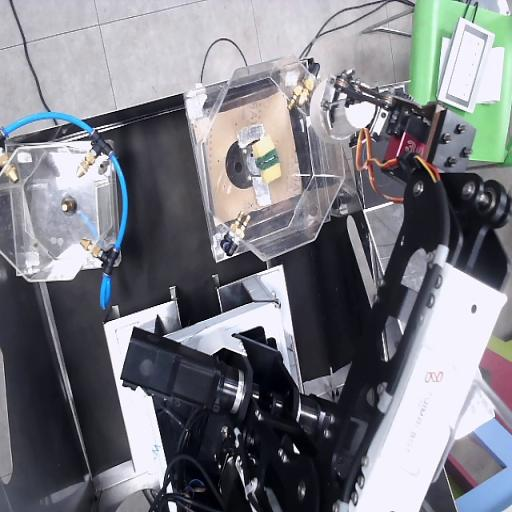cup in wash station: (310, 77, 375, 141)
